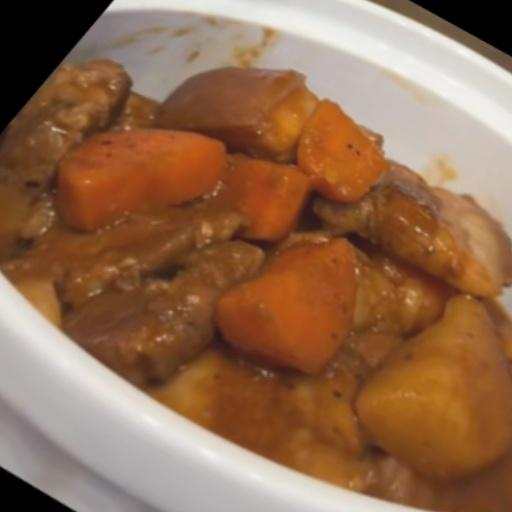pork caldereta: (0, 62, 511, 511)
